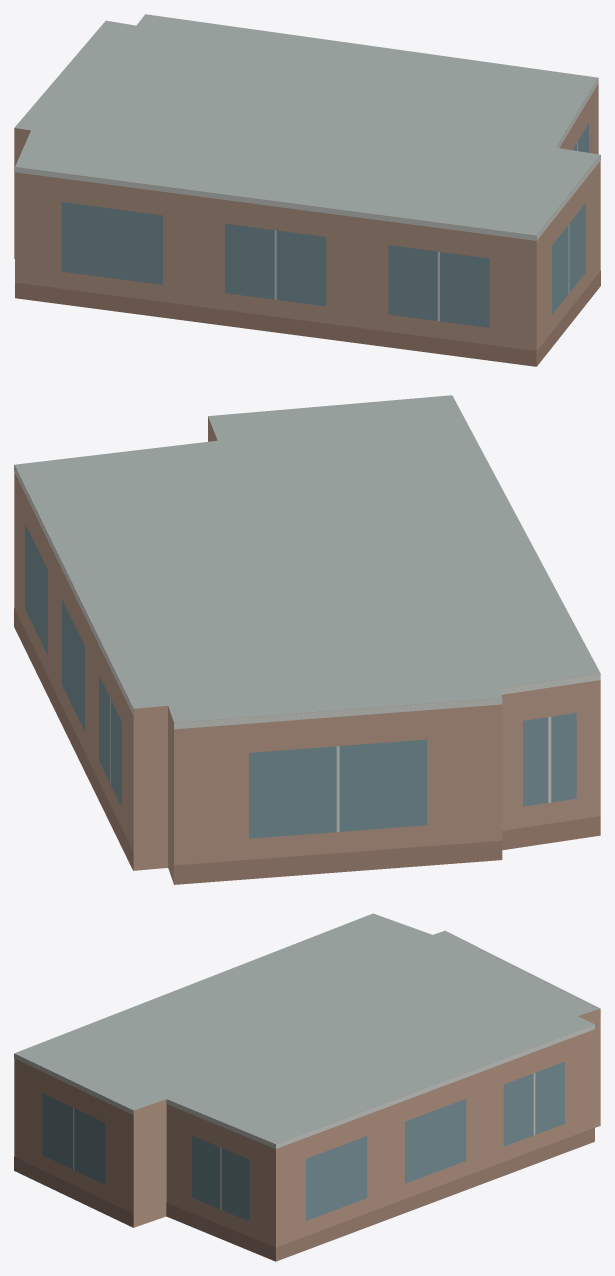
Rendered from survey-upis-32596689.glb.
The picture shows the model from 3 angles, top to bottom: view 1: azimuth 30°, elevation 25°; view 2: azimuth 150°, elevation 25°; view 3: azimuth 270°, elevation 25°; orthographic projection. The views are drawn at different scales.
Visible parts, largest first — view 1: survey-upis-32596689.tmp; view 2: survey-upis-32596689.tmp; view 3: survey-upis-32596689.tmp.
Boxes of the visible parts, x1=… form: survey-upis-32596689.tmp: x1=14, y1=14, x2=600, y2=366; survey-upis-32596689.tmp: x1=14, y1=395, x2=600, y2=884; survey-upis-32596689.tmp: x1=14, y1=913, x2=600, y2=1261.
Bounding box in the file's own units: 12.88 × 3.05 × 13.83.
